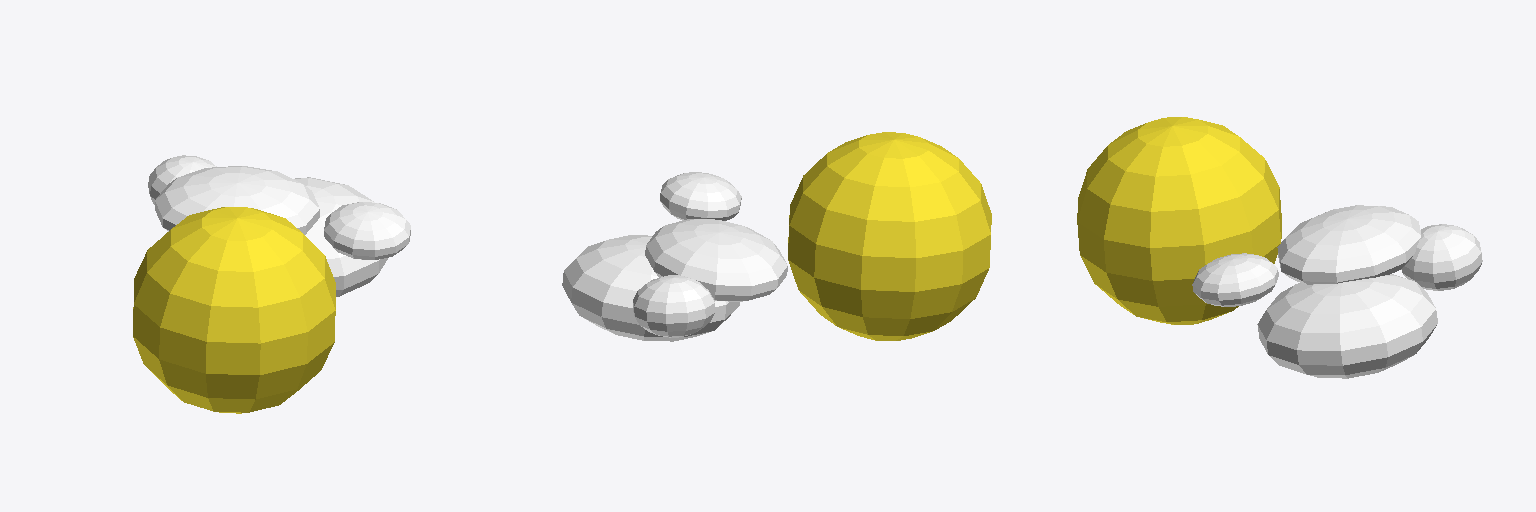
3 renders of one model, left to right at view 1: azimuth 30°, elevation 25°; view 2: azimuth 150°, elevation 25°; view 3: azimuth 270°, elevation 25°, orthographic.
Parts seen in each view (by area): view 1: group[number redacted], group[number redacted], group[number redacted], group[number redacted], group[number redacted]; view 2: group[number redacted], group[number redacted], group[number redacted], group[number redacted], group[number redacted]; view 3: group[number redacted], group[number redacted], group[number redacted], group[number redacted], group[number redacted].
Boxes of the visible parts, box(x1,y1,x2,y2) form: group[number redacted]: box(133, 207, 335, 413); group[number redacted]: box(155, 166, 319, 234); group[number redacted]: box(324, 202, 410, 259); group[number redacted]: box(294, 177, 387, 296); group[number redacted]: box(148, 155, 216, 204); group[number redacted]: box(788, 132, 991, 340); group[number redacted]: box(645, 219, 787, 301); group[number redacted]: box(562, 235, 739, 341); group[number redacted]: box(633, 275, 714, 337); group[number redacted]: box(660, 172, 741, 220); group[number redacted]: box(1077, 117, 1281, 324); group[number redacted]: box(1257, 274, 1437, 378); group[number redacted]: box(1277, 205, 1420, 284); group[number redacted]: box(1401, 224, 1482, 290); group[number redacted]: box(1192, 253, 1278, 306).
Bounding box in the file's own units: 1.66 × 0.9385 × 1.82.